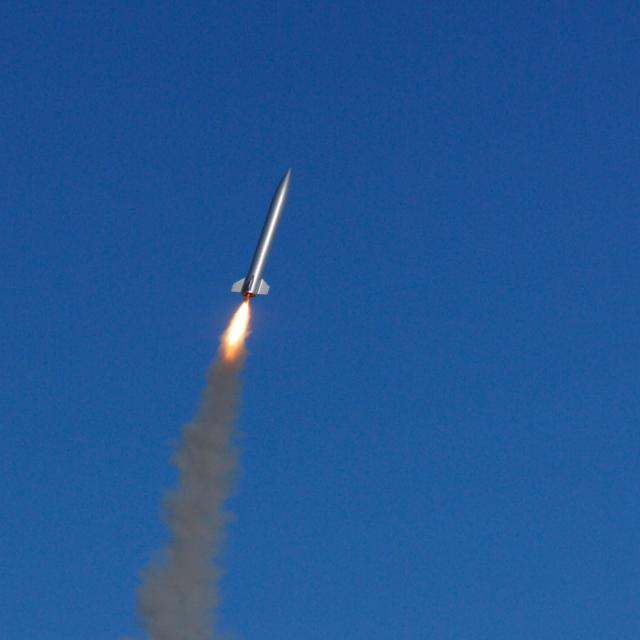Rocket: (230, 166, 293, 298)
